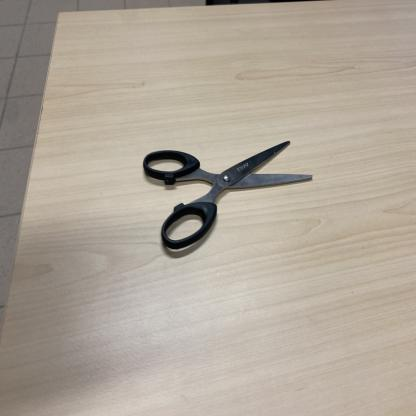scissors: (142, 137, 311, 258)
